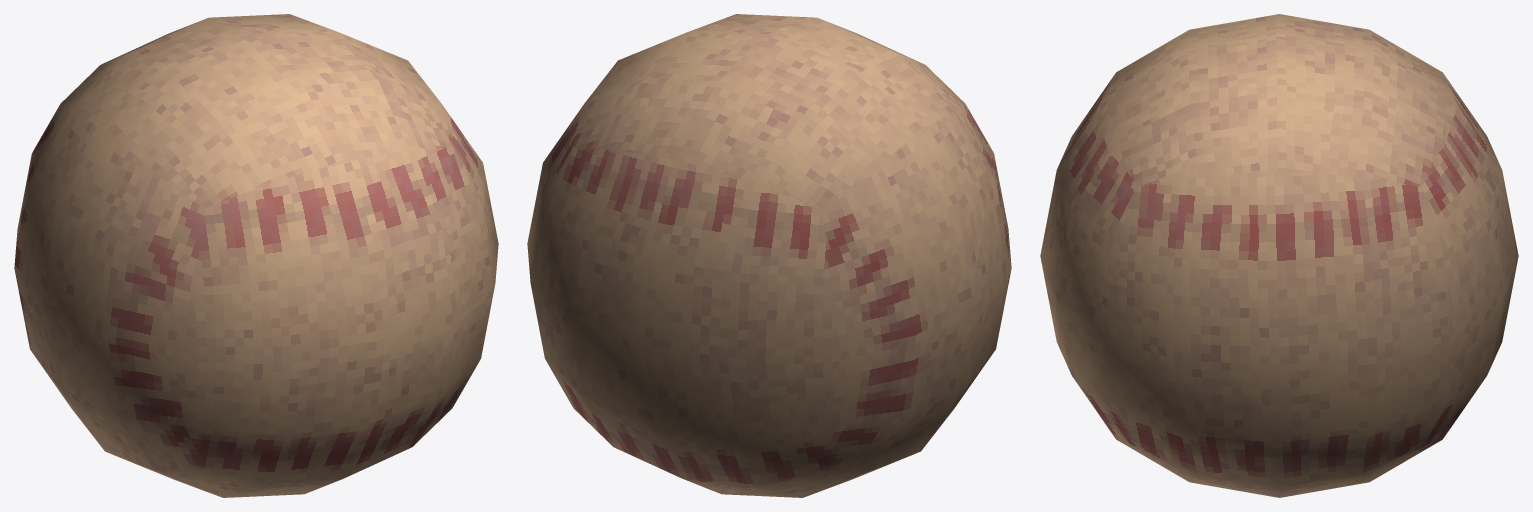
The model's file is beisbolniMyachik.glb.
The picture shows the model from 3 angles, left to right: view 1: azimuth 30°, elevation 25°; view 2: azimuth 150°, elevation 25°; view 3: azimuth 270°, elevation 25°; orthographic projection.
Parts seen in each view (by area): view 1: Cube; view 2: Cube; view 3: Cube.
Boxes of the visible parts, x1,y1,x2,y2 form: Cube: (14, 14, 498, 497); Cube: (527, 14, 1011, 497); Cube: (1040, 14, 1518, 497).
Size of the model in its own units: 1.68 by 1.68 by 1.68.
1 material, 1 textured.
